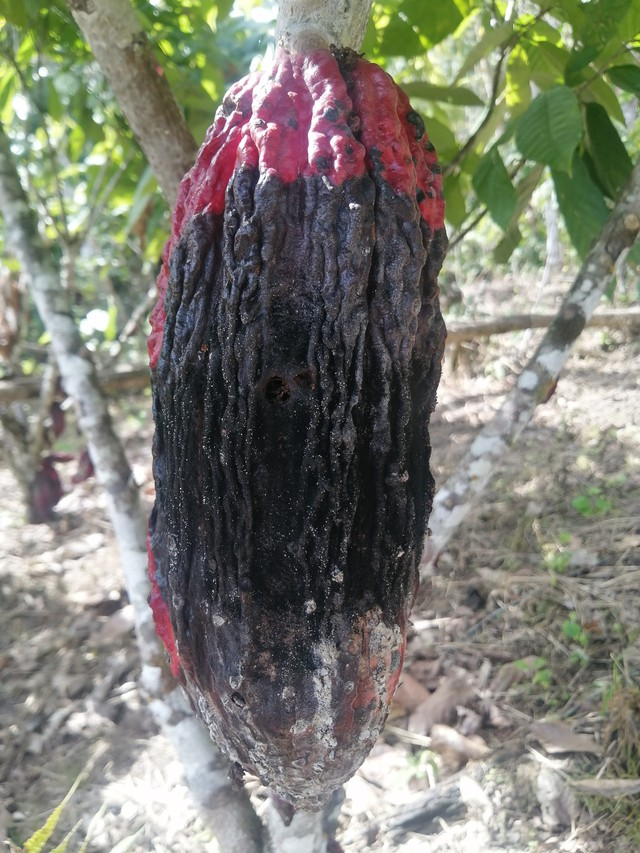moniliophthora roreri: (119, 26, 469, 830)
